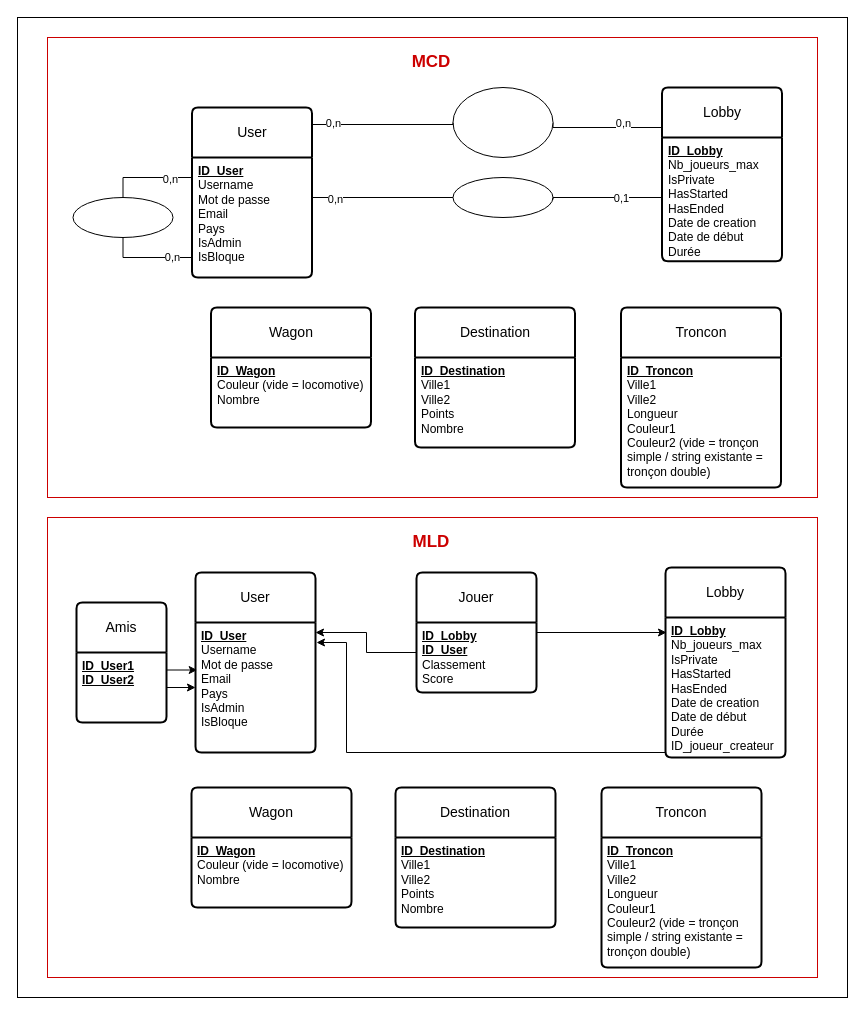
This 865x1015 diagram has some shape labels left out. Here are the shapes that lost their labels. From the top down, the centre of each, then its label:
(x=502, y=122): Jouer Classement Score
(x=122, y=217): Etre ami avec
(x=502, y=197): Créer
